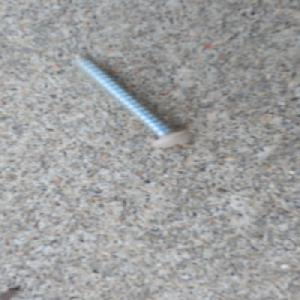Screw: (70, 51, 196, 150)
